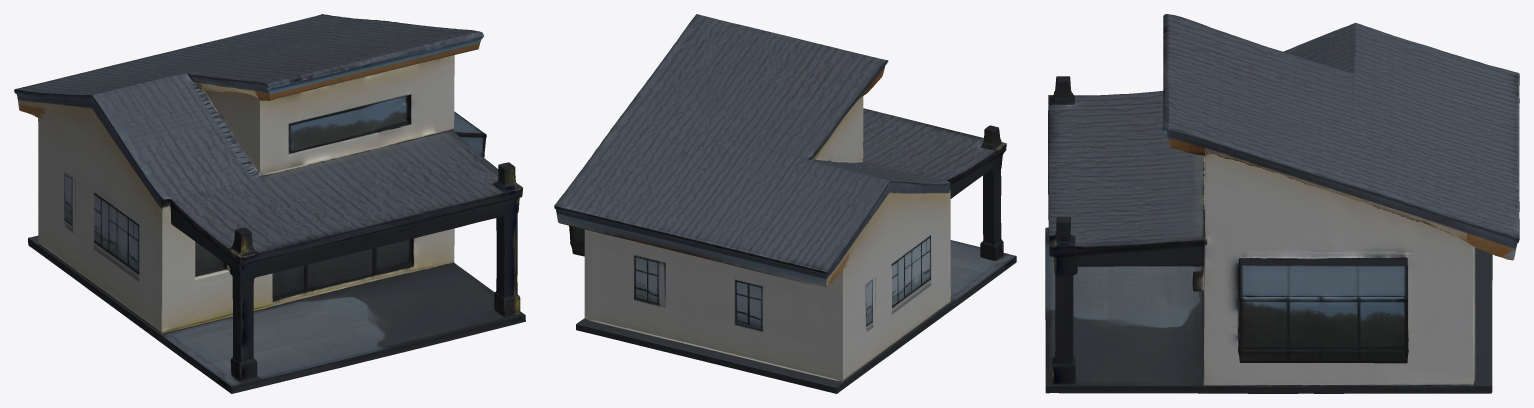
Rendered from TL FILE ESSETN.glb.glb.
3 views of the same model, side by side, from view 1: azimuth 30°, elevation 25°; view 2: azimuth 150°, elevation 25°; view 3: azimuth 270°, elevation 25° (orthographic). The views are drawn at different scales.
Visible parts, largest first — view 1: tripo_node_bdc319f4-d677-4878-9d94-6e806b831959; view 2: tripo_node_bdc319f4-d677-4878-9d94-6e806b831959; view 3: tripo_node_bdc319f4-d677-4878-9d94-6e806b831959.
Boxes of the visible parts, box(x1,y1,x2,y2) form: tripo_node_bdc319f4-d677-4878-9d94-6e806b831959: box(14, 14, 525, 393); tripo_node_bdc319f4-d677-4878-9d94-6e806b831959: box(554, 14, 1016, 393); tripo_node_bdc319f4-d677-4878-9d94-6e806b831959: box(1045, 14, 1519, 393).
Size of the model in its own units: 0.924 by 0.6323 by 1.
Materials: 1 (1 with a texture image).
